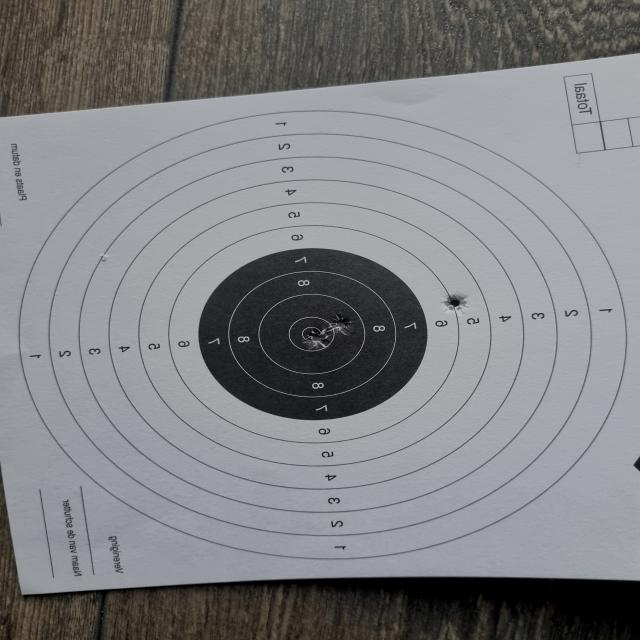10: (328, 314, 354, 338), (302, 328, 329, 351)
6: (440, 293, 468, 314)
Target: (16, 107, 629, 562)
black_contour: (198, 248, 429, 421)
